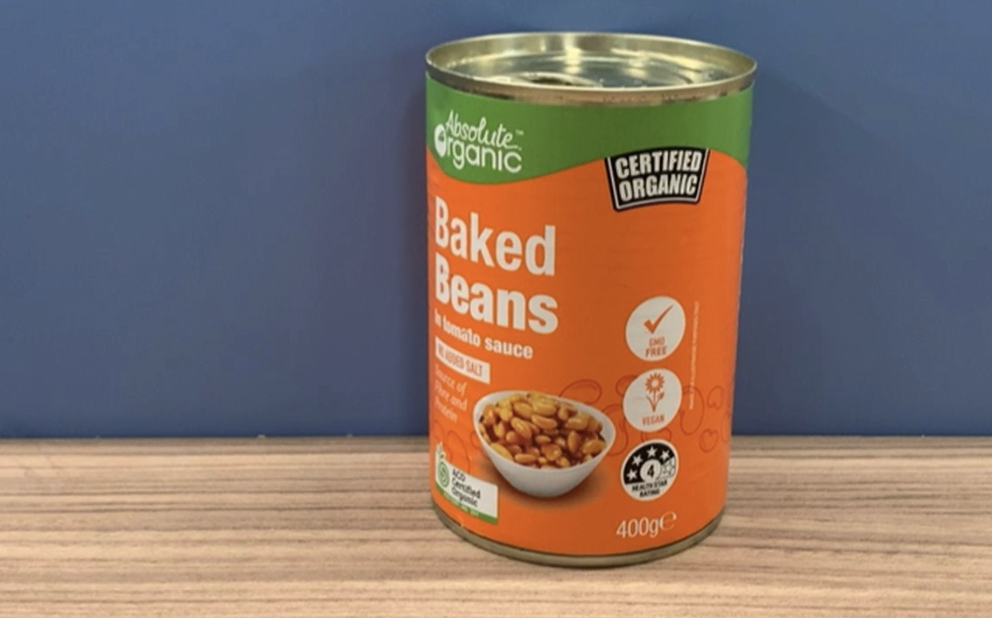Baked beans_450g: (430, 108, 717, 541)
